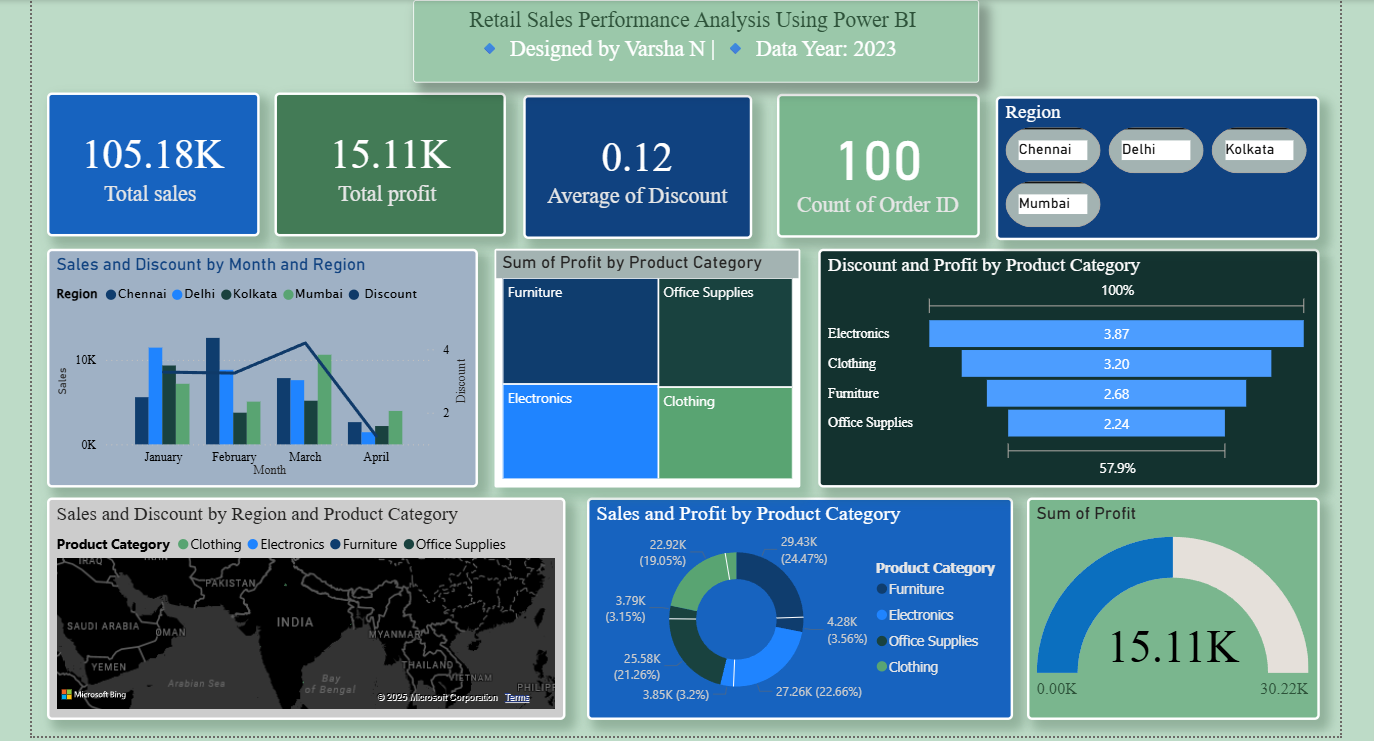

What the dashboard file says about the page in this screenshot:
{"tool":"powerbi","page":{"name":"Page 1","canvas":[1280,720],"ordinal":0},"visuals":[{"type":"card","fields":{"Values":["Sum(Retail_Sales (1).Sales)"]},"box":[14.7,90.5,207.9,140.6],"z":0},{"type":"card","fields":{"Values":["Sum(Retail_Sales (1).Profit)"]},"box":[236.7,90.8,226.7,140.8],"z":1000},{"type":"card","fields":{"Values":["Avg(Retail_Sales (1).Discount)"]},"box":[480.6,92.9,223.8,140.6],"z":2000},{"type":"card","fields":{"Values":["CountNonNull(Retail_Sales (1).Order ID)"]},"box":[728.8,91.7,198.1,140.6],"z":3000},{"type":"donutChart","fields":{"Category":["Retail_Sales (1).Product Category"],"Y":["Sum(Retail_Sales (1).Sales)","Sum(Retail_Sales (1).Profit)"]},"box":[542.9,486.7,417,217.7],"z":4000},{"type":"funnel","fields":{"Y":["Sum(Retail_Sales (1).Discount)"],"Category":["Retail_Sales (1).Product Category"]},"box":[769.2,243.3,490.4,233.6],"z":5000},{"type":"lineClusteredColumnComboChart","fields":{"Category":["Retail_Sales (1).Date.Variation.Date Hierarchy.Month"],"Y":["Sum(Retail_Sales (1).Sales)"],"Series":["Retail_Sales (1).Region"],"Y2":["Sum(Retail_Sales (1).Discount)"]},"box":[14.7,243.3,421.9,233.6],"z":6000},{"type":"treemap","fields":{"Group":["Retail_Sales (1).Product Category","Retail_Sales (1).Discount"],"Values":["Sum(Retail_Sales (1).Profit)"]},"box":[452.4,243.3,299.6,233.6],"z":7000},{"type":"advancedSlicerVisual","fields":{"Values":["Retail_Sales (1).Region"]},"box":[942.8,94.2,316.7,140.6],"z":8000},{"type":"textbox","box":[373,0,553.9,80.7],"z":9000},{"type":"filledMap","fields":{"Category":["Retail_Sales (1).Region"],"Series":["Retail_Sales (1).Product Category"],"Y":["Avg(Retail_Sales (1).Sales)"]},"box":[14.7,486.7,507.5,217.7],"z":10000},{"type":"gauge","fields":{"Y":["Sum(Retail_Sales (1).Profit)"]},"box":[973.4,486.7,286.1,217.7],"z":11000}]}

Visuals, with their boxes in screenshot pixels (x1, y1, x2, y2):
card - Sum(Retail_Sales (1).Sales): [left=51, top=92, right=262, bottom=234]
card - Sum(Retail_Sales (1).Profit): [left=276, top=92, right=506, bottom=235]
card - Avg(Retail_Sales (1).Discount): [left=523, top=94, right=750, bottom=237]
card - CountNonNull(Retail_Sales (1).Order ID): [left=775, top=93, right=976, bottom=236]
donutChart - Retail_Sales (1).Product Category x Sum(Retail_Sales (1).Sales): [left=587, top=494, right=1010, bottom=715]
funnel - Sum(Retail_Sales (1).Discount) x Retail_Sales (1).Product Category: [left=816, top=247, right=1314, bottom=484]
lineClusteredColumnComboChart - Retail_Sales (1).Date.Variation.Date Hierarchy.Month x Sum(Retail_Sales (1).Sales): [left=51, top=247, right=479, bottom=484]
treemap - Retail_Sales (1).Product Category x Retail_Sales (1).Discount: [left=495, top=247, right=799, bottom=484]
advancedSlicerVisual - Retail_Sales (1).Region: [left=992, top=96, right=1314, bottom=238]
textbox: [left=414, top=0, right=976, bottom=82]
filledMap - Retail_Sales (1).Region x Retail_Sales (1).Product Category: [left=51, top=494, right=566, bottom=715]
gauge - Sum(Retail_Sales (1).Profit): [left=1023, top=494, right=1314, bottom=715]
